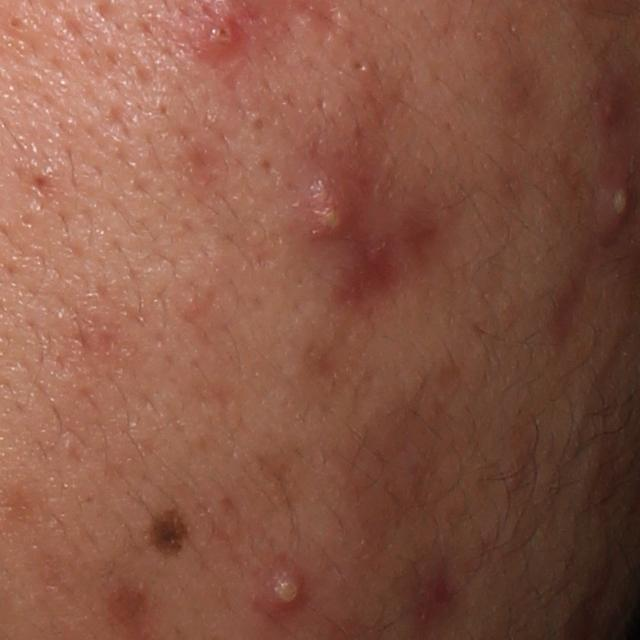atrophic_scar: (324, 158, 450, 336)
comedo: (3, 11, 31, 36), (247, 113, 268, 133)
nevus: (137, 501, 189, 564)
pustule: (183, 8, 251, 69), (300, 176, 356, 239), (601, 168, 632, 246), (261, 569, 307, 615)
